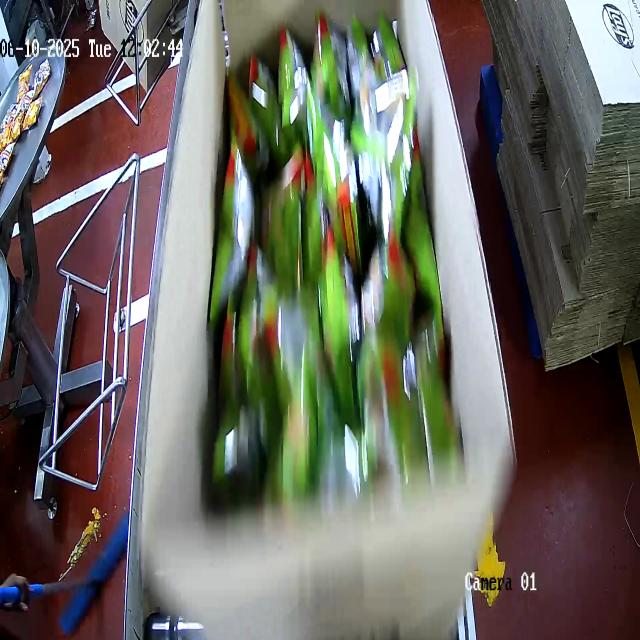YOGURT_HERB: (216, 32, 449, 491)
